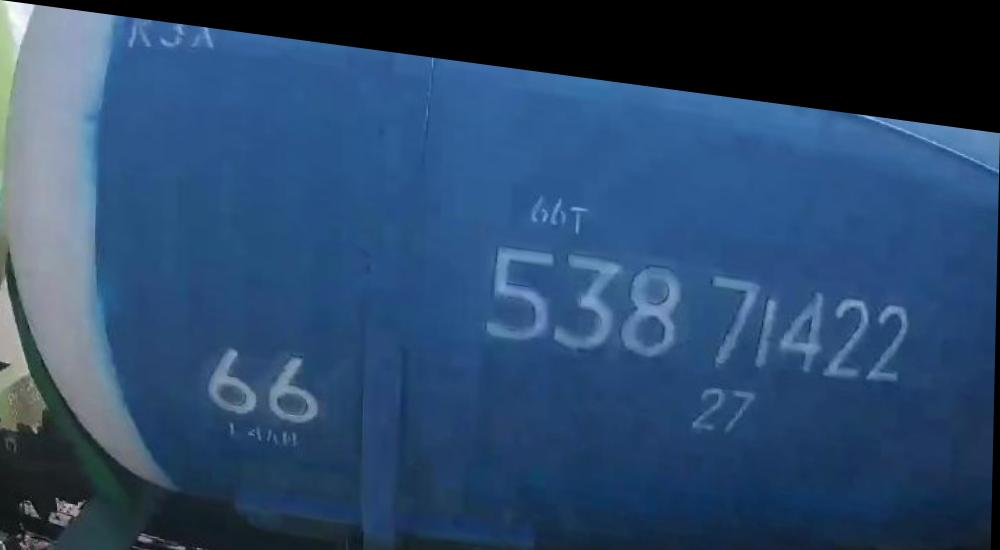Wagon-number: (483, 225, 914, 371)
